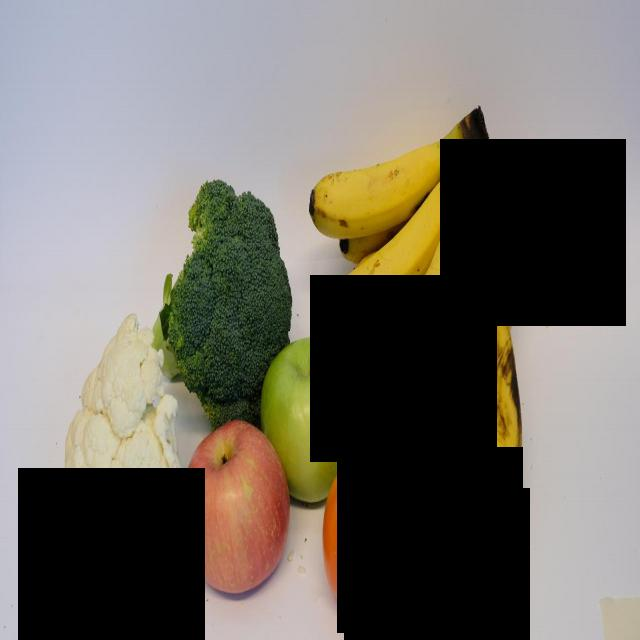apple: (182, 417, 291, 596), (261, 334, 358, 506)
banana: (447, 201, 522, 580), (327, 146, 468, 337), (381, 154, 483, 386), (438, 170, 530, 418), (303, 104, 472, 234)
broccoli: (151, 174, 294, 427)
cauliflower: (59, 308, 189, 592)
tomato: (322, 459, 405, 618)
